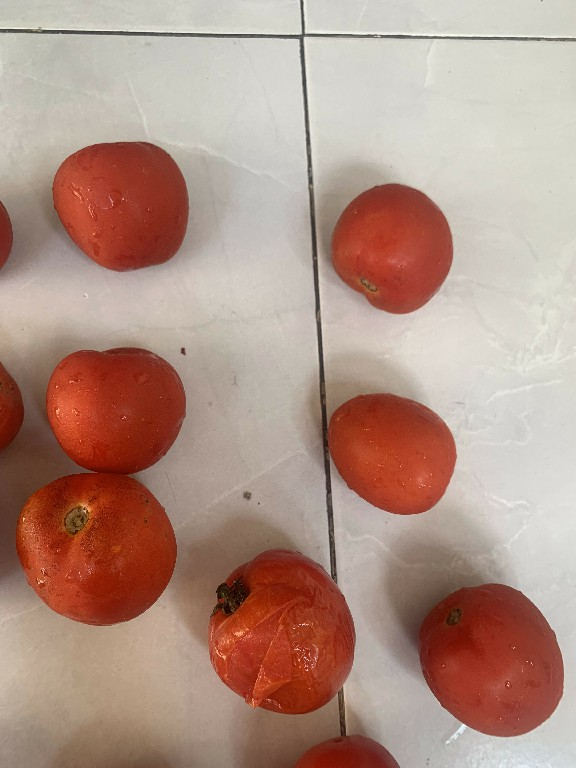NG: (204, 540, 361, 721)
OK: (11, 468, 181, 639), (411, 576, 571, 745), (40, 127, 198, 274), (316, 381, 458, 522), (317, 177, 462, 315), (40, 337, 193, 464)
